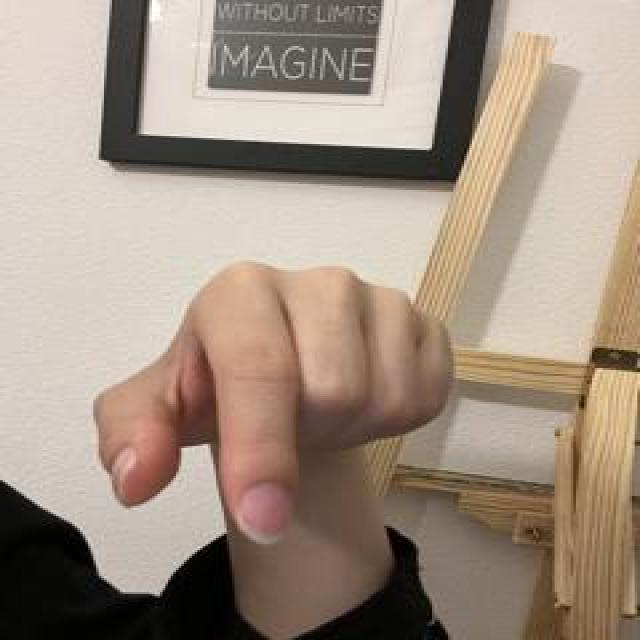Q: (84, 256, 457, 550)
